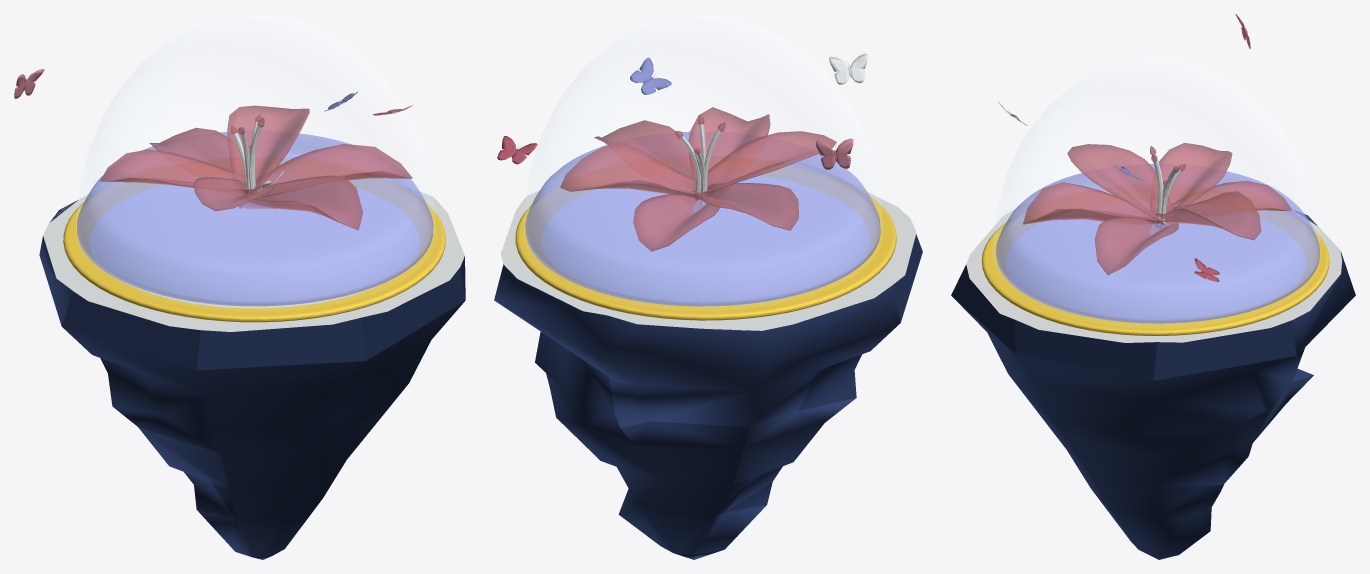
Rendered from SeedNEW.glb.
The picture shows the model from 3 angles, left to right: view 1: azimuth 30°, elevation 25°; view 2: azimuth 150°, elevation 25°; view 3: azimuth 270°, elevation 25°; orthographic projection. The views are drawn at different scales.
Parts seen in each view (by area): view 1: SeedOfHope_Island_Base, FlowerPlatform, GlassDome, Lily, GoldenRim; view 2: SeedOfHope_Island_Base, FlowerPlatform, GlassDome, Lily, GoldenRim, DreamyButterfly, ButterflyFresh, ButterflySoft, ButterflyGolden; view 3: SeedOfHope_Island_Base, FlowerPlatform, GlassDome, Lily, GoldenRim.
Boxes of the visible parts, x1,y1,x2,y2 form: SeedOfHope_Island_Base: (39,156,465,559); FlowerPlatform: (77,132,433,306); GlassDome: (76,14,436,236); Lily: (100,105,412,230); GoldenRim: (63,158,445,322); SeedOfHope_Island_Base: (494,163,922,559); FlowerPlatform: (525,131,880,306); GlassDome: (524,14,882,227); Lily: (560,107,836,251); GoldenRim: (515,165,896,320); DreamyButterfly: (815,138,853,169); ButterflyFresh: (829,53,867,84); ButterflySoft: (630,57,671,94); ButterflyGolden: (497,136,537,164); SeedOfHope_Island_Base: (951,188,1355,559); FlowerPlatform: (996,164,1319,323); GlassDome: (993,58,1320,256); Lily: (1023,143,1291,275); GoldenRim: (981,189,1329,335).
Size of the model in its own units: 23.09 by 30.59 by 23.09.
